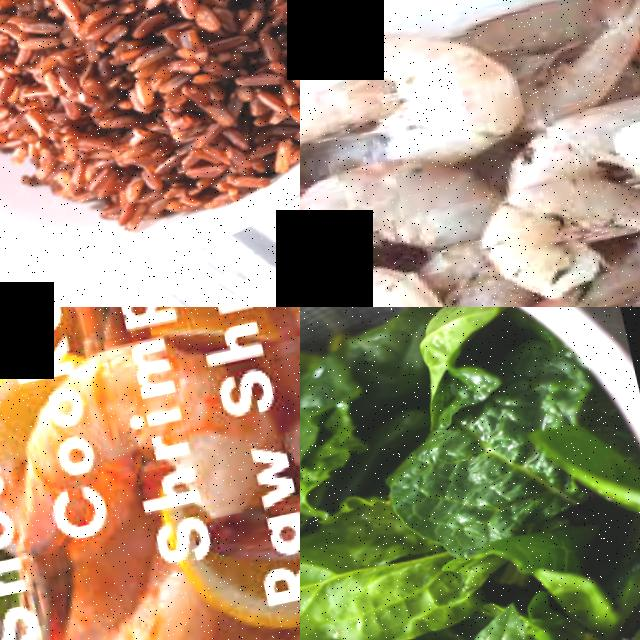red rice: (0, 0, 300, 247)
shrimp: (326, 0, 517, 181), (300, 146, 494, 278), (461, 169, 640, 307), (318, 256, 451, 307)
spinach: (363, 399, 552, 580), (300, 515, 425, 640)
